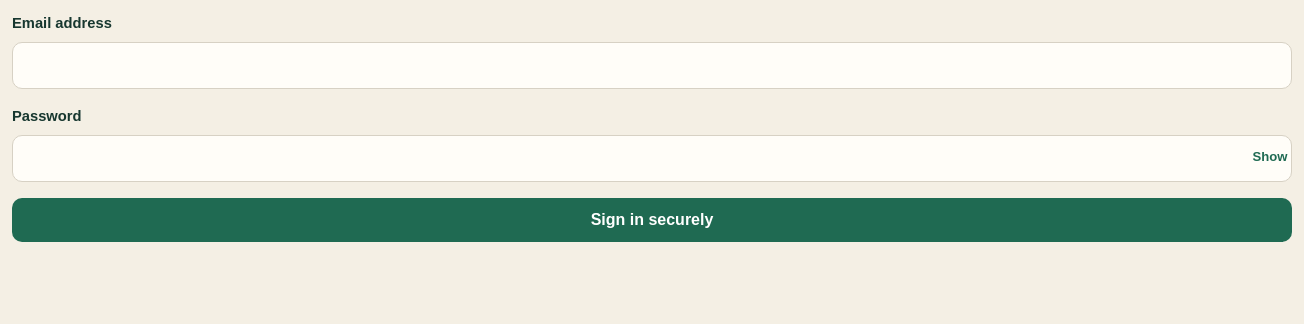
Test case: hides network error details
The width and height of the screenshot is (1304, 324).
Type "student@example.com" into the field labelled "Email address".
click(652, 66); type("student@example.com")  # box x1=12 y1=42 x2=1292 y2=89
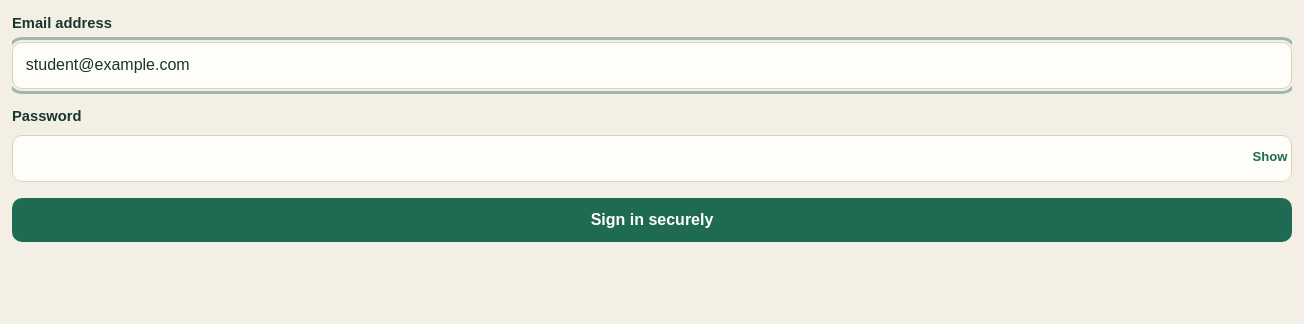
Type "secure pass" into the password field labelled "Password".
click(652, 158); type("secure pass")  # box x1=12 y1=135 x2=1292 y2=182
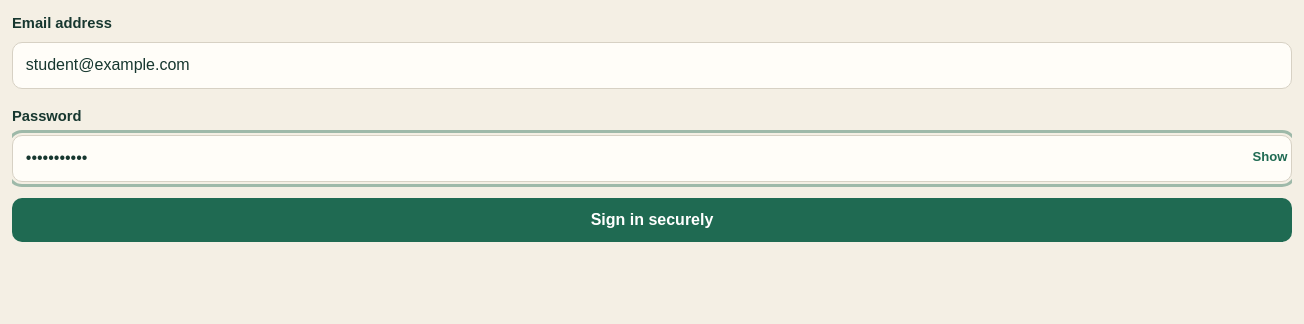
Click the button "Sign in securely".
click(652, 220)  # box x1=12 y1=198 x2=1292 y2=242
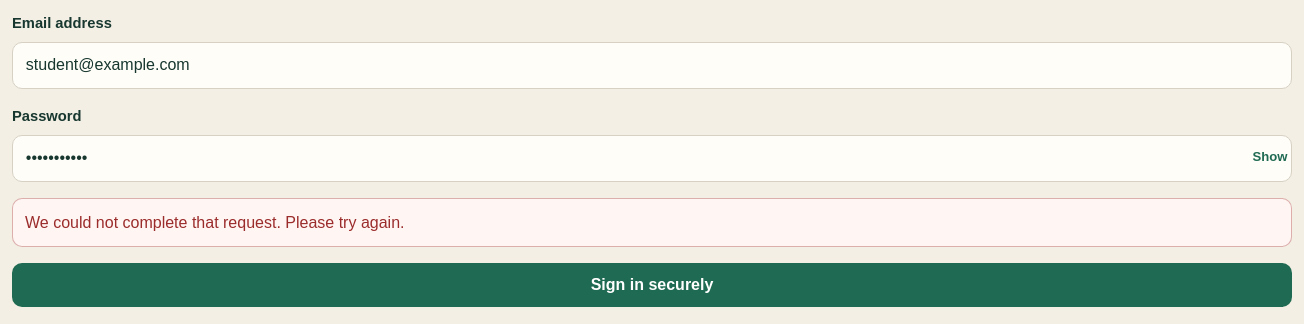
Check: the message reads "We could not complete that request. Please try again.", box x1=25 y1=214 x2=404 y2=231
